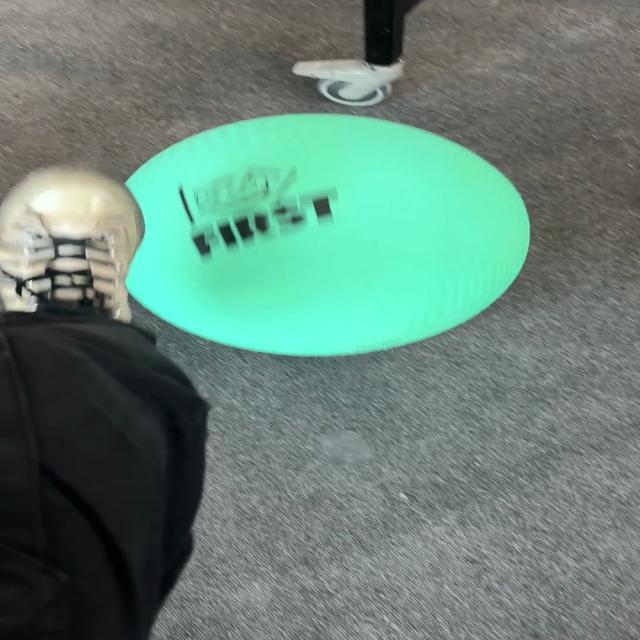Algae: (121, 111, 531, 358)
